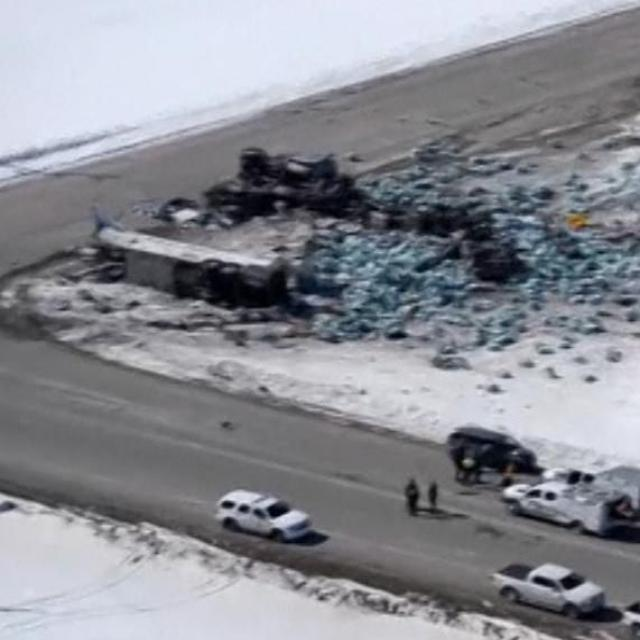traffic_incident: (217, 131, 512, 263), (88, 227, 300, 318)
